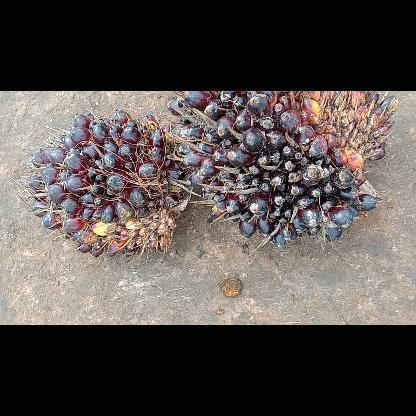TBS mentah: (167, 92, 399, 244), (28, 108, 196, 258)
